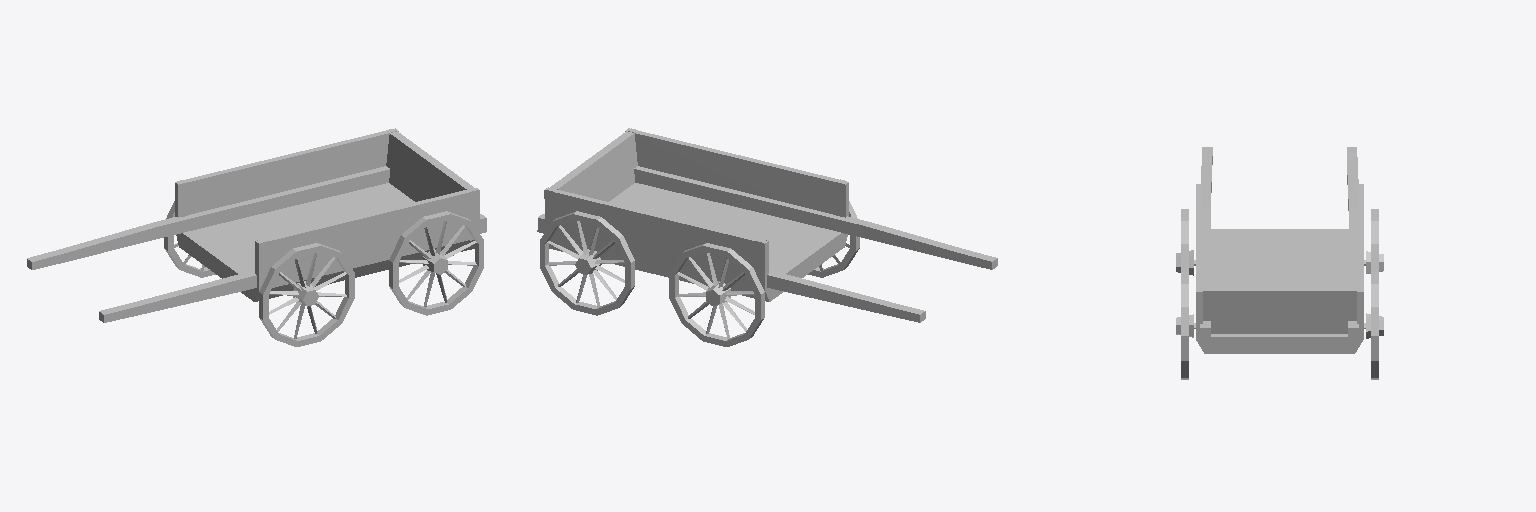
The model's file is Cab.obj.
The picture shows the model from 3 angles: view 1: azimuth 30°, elevation 25°; view 2: azimuth 150°, elevation 25°; view 3: azimuth 270°, elevation 25°; orthographic projection.
Visible parts, largest first — view 1: Export_Cab; view 2: Export_Cab; view 3: Export_Cab.
Boxes of the visible parts, box(x1,y1,x2,y2) form: Export_Cab: box(27, 128, 486, 346); Export_Cab: box(537, 128, 997, 346); Export_Cab: box(1176, 147, 1383, 379).
Bounding box in the file's own units: 4.26 × 1.13 × 2.